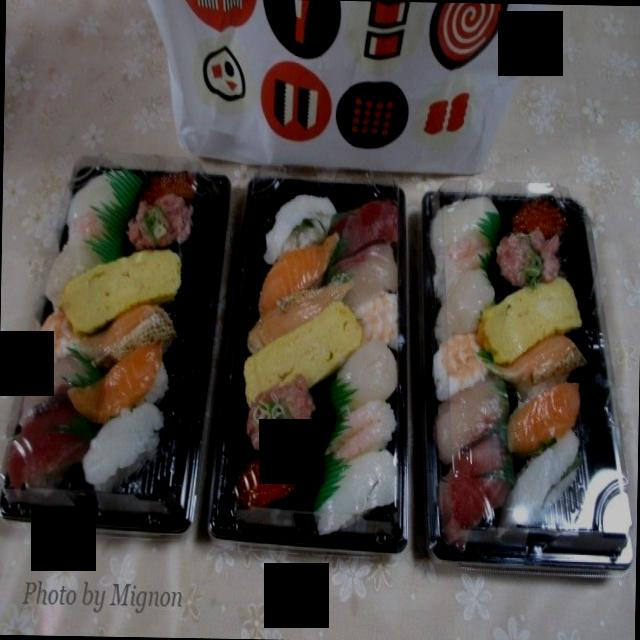sushi: (0, 158, 230, 532), (422, 191, 632, 576), (213, 178, 405, 552)
